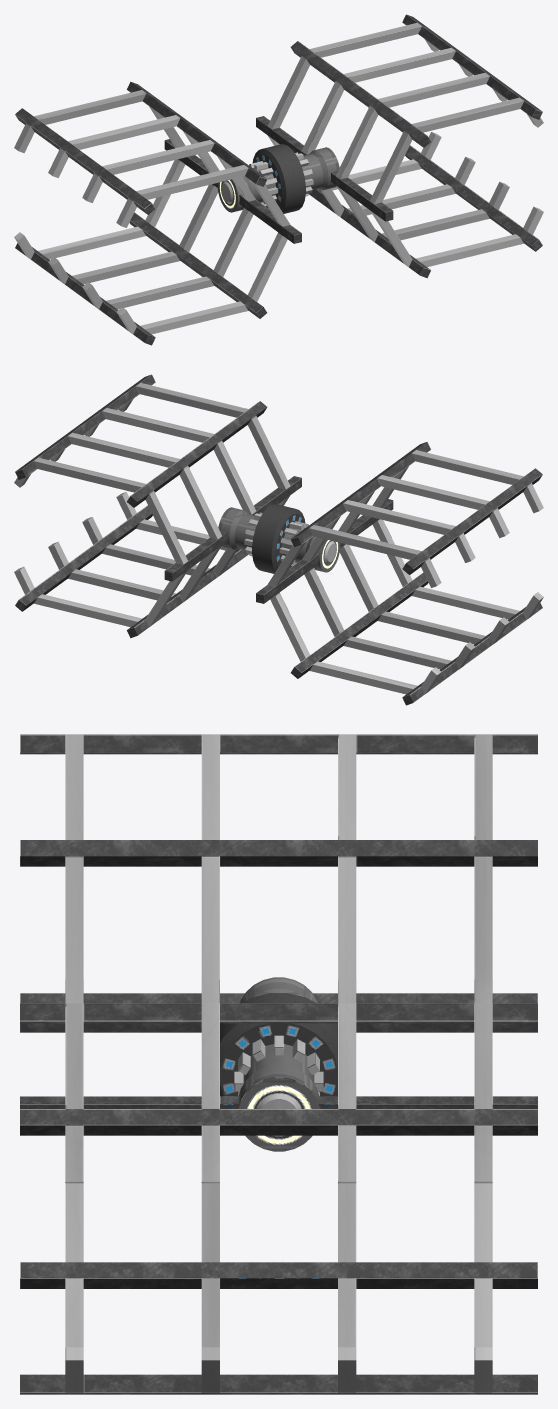
Rendered from station02_base.glb.
3 renders of one model, top to bottom at view 1: azimuth 30°, elevation 25°; view 2: azimuth 150°, elevation 25°; view 3: azimuth 270°, elevation 25°, orthographic. The views are drawn at different scales.
Visible parts, largest first — view 1: Base_LP_cylinder1_default.002; view 2: Base_LP_cylinder1_default.002; view 3: Base_LP_cylinder1_default.002.
Boxes of the visible parts, x1,y1,x2,y2 form: Base_LP_cylinder1_default.002: (14,14,543,345); Base_LP_cylinder1_default.002: (14,374,543,705); Base_LP_cylinder1_default.002: (20,734,537,1394).
Bounding box in the file's own units: 21.5 × 6.93 × 11.4.
1 material, 1 textured.
